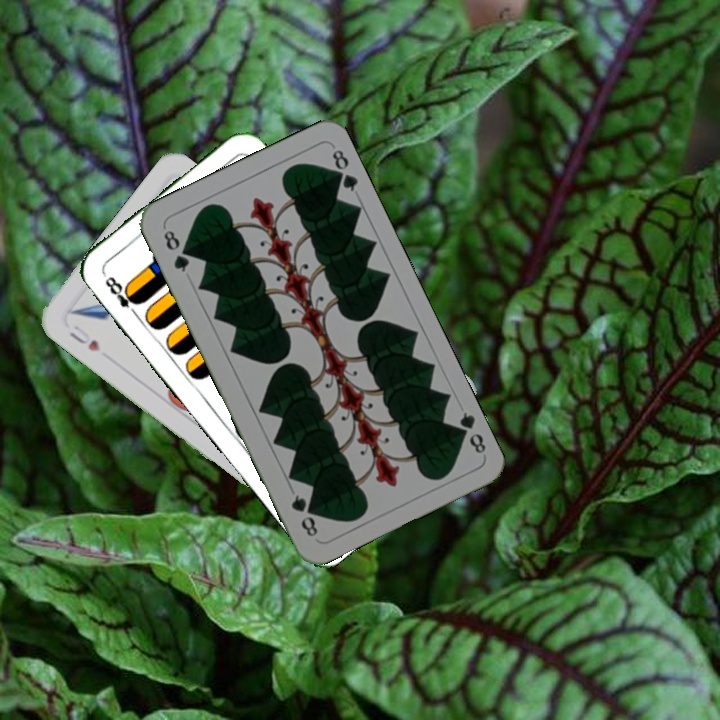E8: (101, 272, 144, 320)
G8: (450, 407, 489, 457), (159, 226, 192, 275)
HU: (65, 321, 102, 355)
